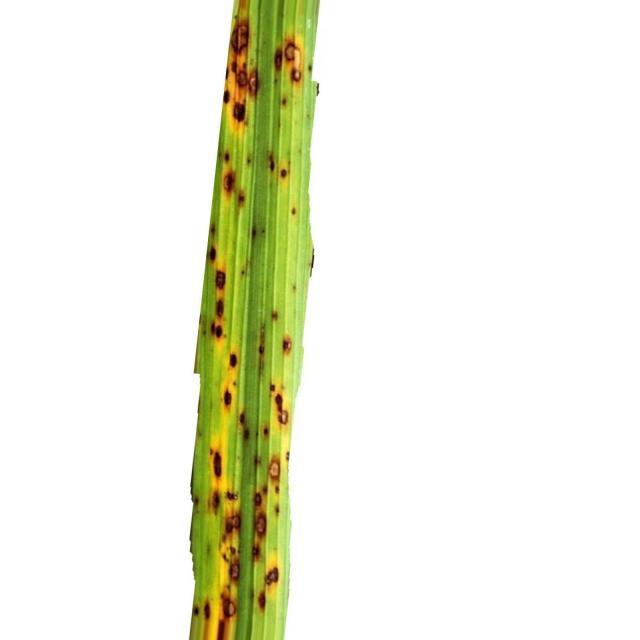Brown_Spot: (231, 22, 249, 52), (275, 394, 289, 424), (248, 70, 259, 95), (222, 599, 236, 618), (285, 42, 298, 61), (232, 102, 245, 121), (229, 559, 240, 581), (265, 568, 279, 585), (224, 172, 235, 191), (215, 270, 226, 289), (269, 460, 280, 479), (255, 516, 266, 534), (228, 515, 240, 531), (282, 335, 292, 354), (236, 71, 248, 86), (211, 322, 222, 338), (214, 452, 221, 476), (255, 449, 265, 464), (212, 491, 220, 509), (258, 591, 266, 609), (274, 501, 285, 514), (275, 49, 282, 69), (291, 68, 301, 82), (204, 600, 211, 620), (216, 300, 224, 316), (209, 220, 216, 238), (224, 390, 232, 405), (226, 490, 238, 500), (238, 190, 245, 206), (230, 354, 238, 368), (252, 546, 260, 559), (269, 154, 275, 171), (209, 246, 216, 260), (255, 492, 262, 506), (192, 606, 200, 618), (240, 266, 248, 278), (222, 151, 230, 162), (194, 495, 199, 512), (271, 310, 279, 320), (246, 152, 252, 165), (280, 169, 288, 178), (224, 90, 230, 102), (239, 412, 245, 424), (261, 485, 269, 494), (262, 426, 269, 436), (259, 344, 265, 354), (251, 226, 256, 238), (244, 429, 250, 438), (269, 384, 276, 391), (275, 485, 280, 494), (291, 206, 296, 214), (281, 98, 286, 105)
